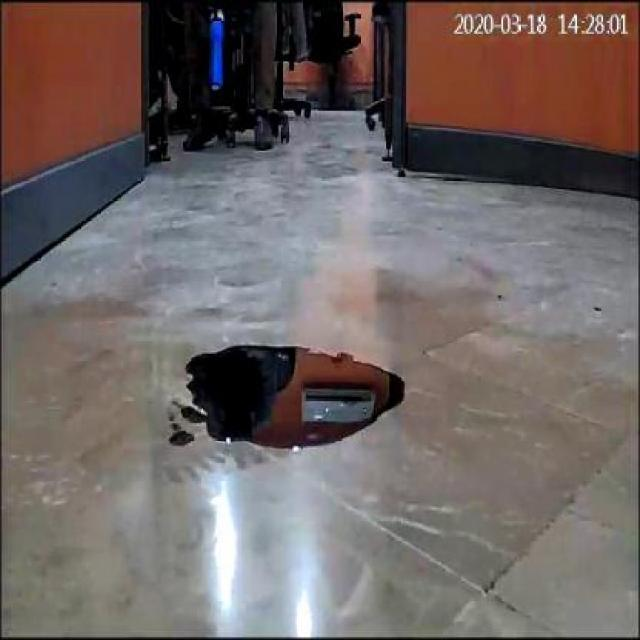spill: (188, 341, 406, 452)
